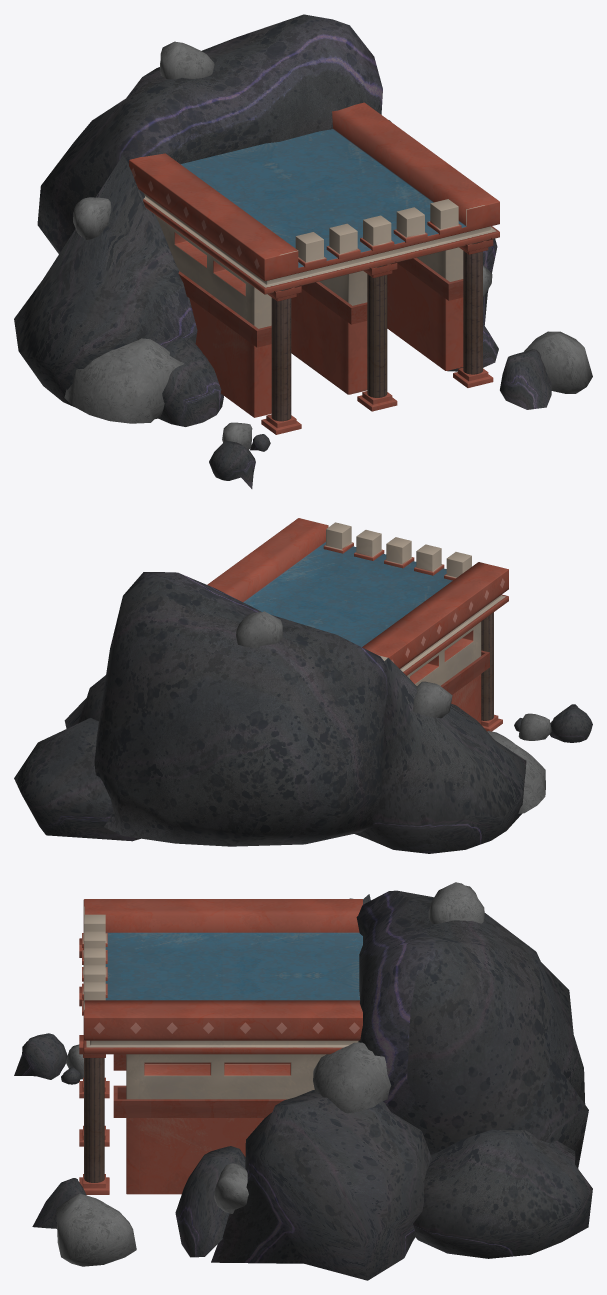
File: Mina.fbx
3 views of the same model, one above another, from view 1: azimuth 30°, elevation 25°; view 2: azimuth 150°, elevation 25°; view 3: azimuth 270°, elevation 25° (orthographic). The views are drawn at different scales.
Visible parts, largest first — view 1: Plane.014; view 2: Plane.014; view 3: Plane.014.
Part boxes in pixels (left/top/right/bottom): Plane.014: left=14, top=14, right=592, bottom=488; Plane.014: left=14, top=518, right=592, bottom=853; Plane.014: left=14, top=882, right=592, bottom=1280.
Bounding box in the file's own units: 800 × 443 × 806.
